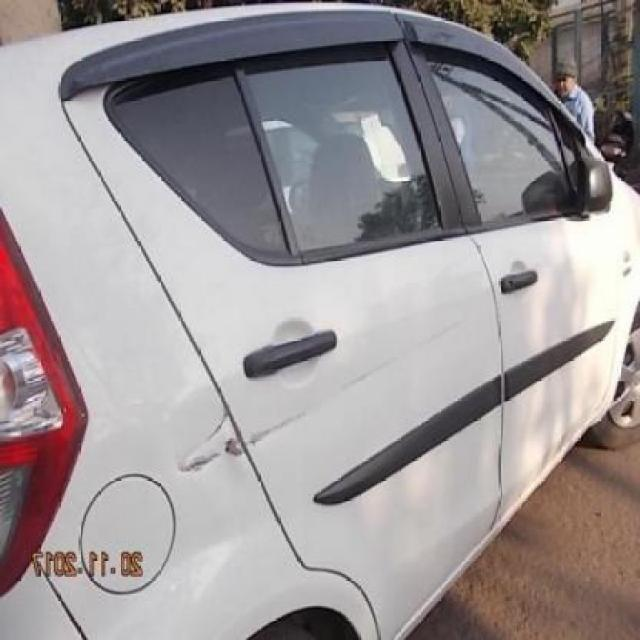damage: (172, 300, 484, 481)
